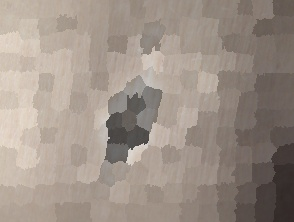vitiligo: (44, 25, 219, 210)
